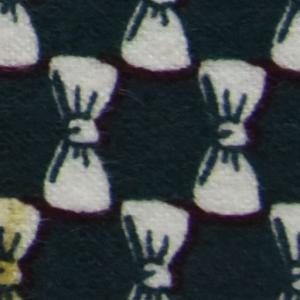Stain: (1, 193, 43, 300)
